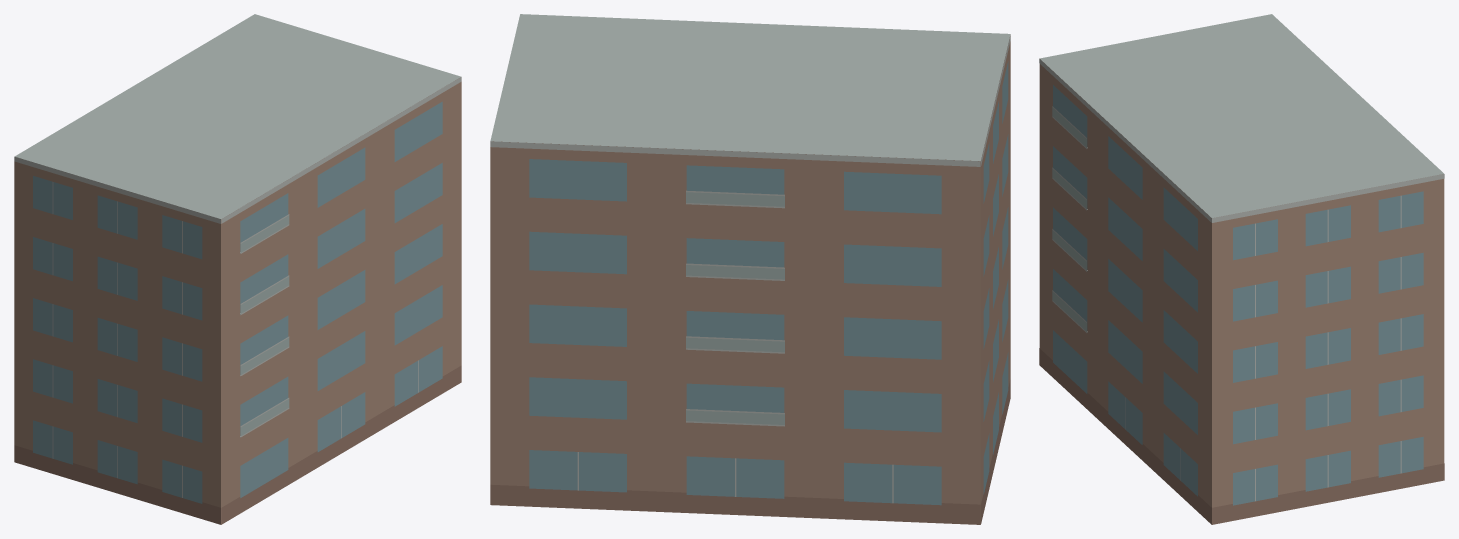
File: survey-upis-33041771.glb
3 views of the same model, side by side, from view 1: azimuth 30°, elevation 25°; view 2: azimuth 150°, elevation 25°; view 3: azimuth 270°, elevation 25° (orthographic). The views are drawn at different scales.
Parts seen in each view (by area): view 1: survey-upis-33041771.tmp; view 2: survey-upis-33041771.tmp; view 3: survey-upis-33041771.tmp.
Part boxes in pixels (x1,y1,x2,y2): survey-upis-33041771.tmp: [14, 14, 461, 524]; survey-upis-33041771.tmp: [490, 14, 1010, 524]; survey-upis-33041771.tmp: [1039, 14, 1444, 524].
Bounding box in the file's own units: 21.78 × 15.25 × 18.26.
